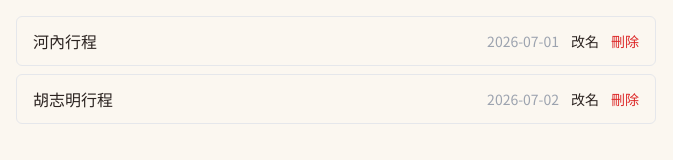
Test: removes a deleted trip from 我的行程 immediately while the server delete is still pending
Click the button "刪除" in the row of "2026-07-01": (625,41) [611,31,639,51]
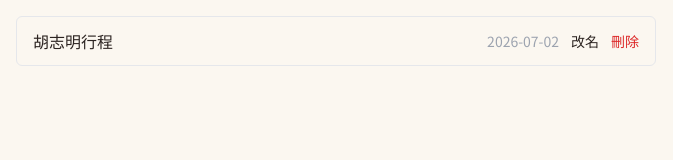
Expected: the link "胡志明行程" is shown, [33,29,113,53]
Now the link "河內行程" is gone
